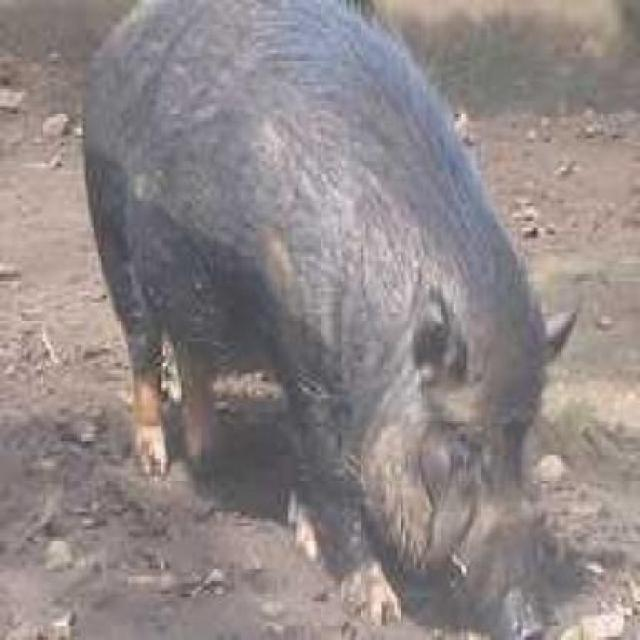pig: (63, 0, 578, 638)
